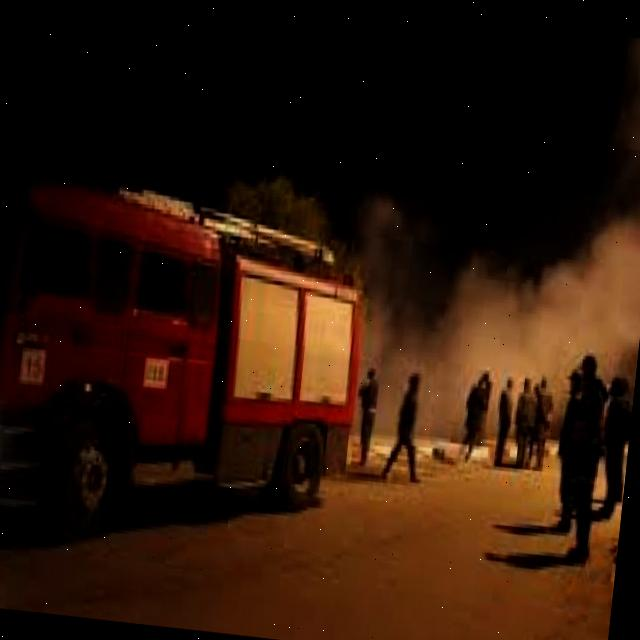emergency: (0, 172, 387, 528)
